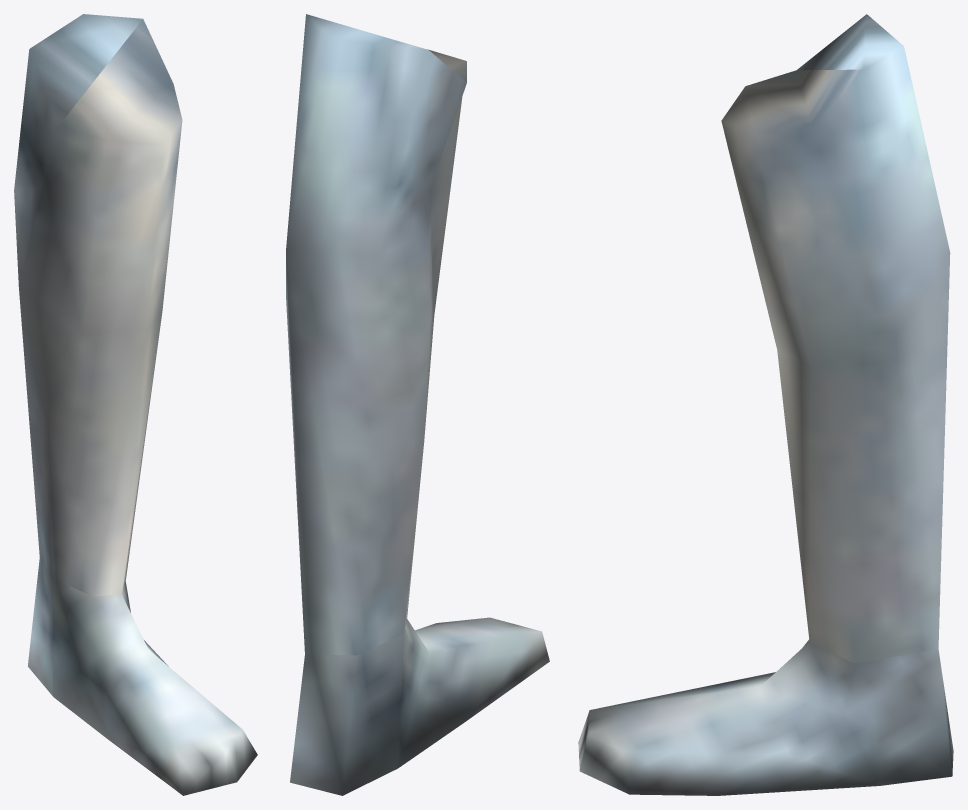
Rendered from minos_left_leg.obj.
3 views of the same model, side by side, from view 1: azimuth 30°, elevation 25°; view 2: azimuth 150°, elevation 25°; view 3: azimuth 270°, elevation 25° (orthographic). The views are drawn at different scales.
Visible parts, largest first — view 1: Minos_Left_Leg; view 2: Minos_Left_Leg; view 3: Minos_Left_Leg.
Part boxes in pixels (x1,y1,x2,y2): Minos_Left_Leg: (14,14,257,795); Minos_Left_Leg: (286,14,549,795); Minos_Left_Leg: (578,14,953,795).
Bounding box in the file's own units: 0.0722 × 0.3556 × 0.1674.
1 material, 1 textured.
